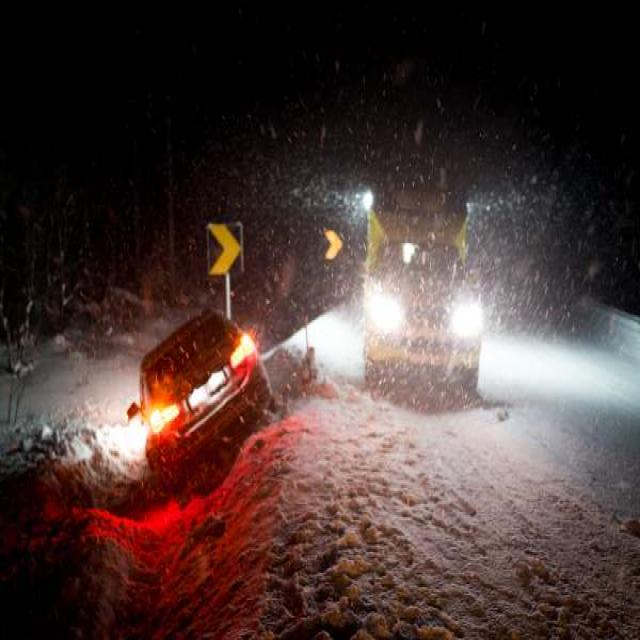Accident: (124, 310, 284, 483)
